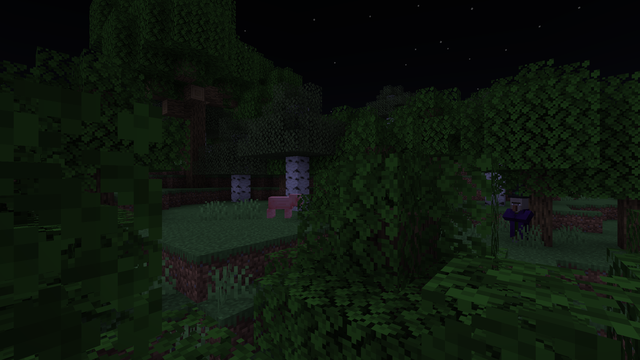cochons: (266, 195, 295, 218)
sorcieres: (510, 195, 528, 245)
